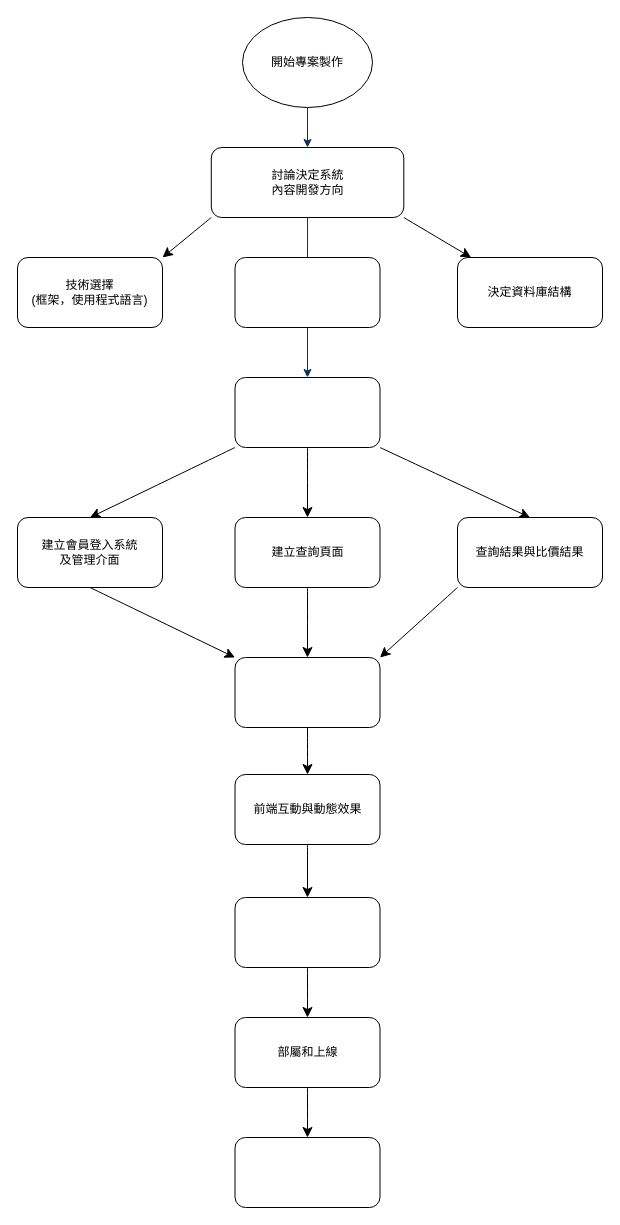
The diagram is 620 pixels wide and 1225 high, and some of its shapes have lost their labels. The shapes that lost their labels are listed below. From the top down, each one's centre as x and y in pixels, then its label:
At (x=307, y=292): "決定協作方式".
At (x=307, y=412): "建立基本網站架構".
At (x=307, y=692): "整合作業".
At (x=307, y=932): "測試和優化".
At (x=307, y=1172): "持續改進".
